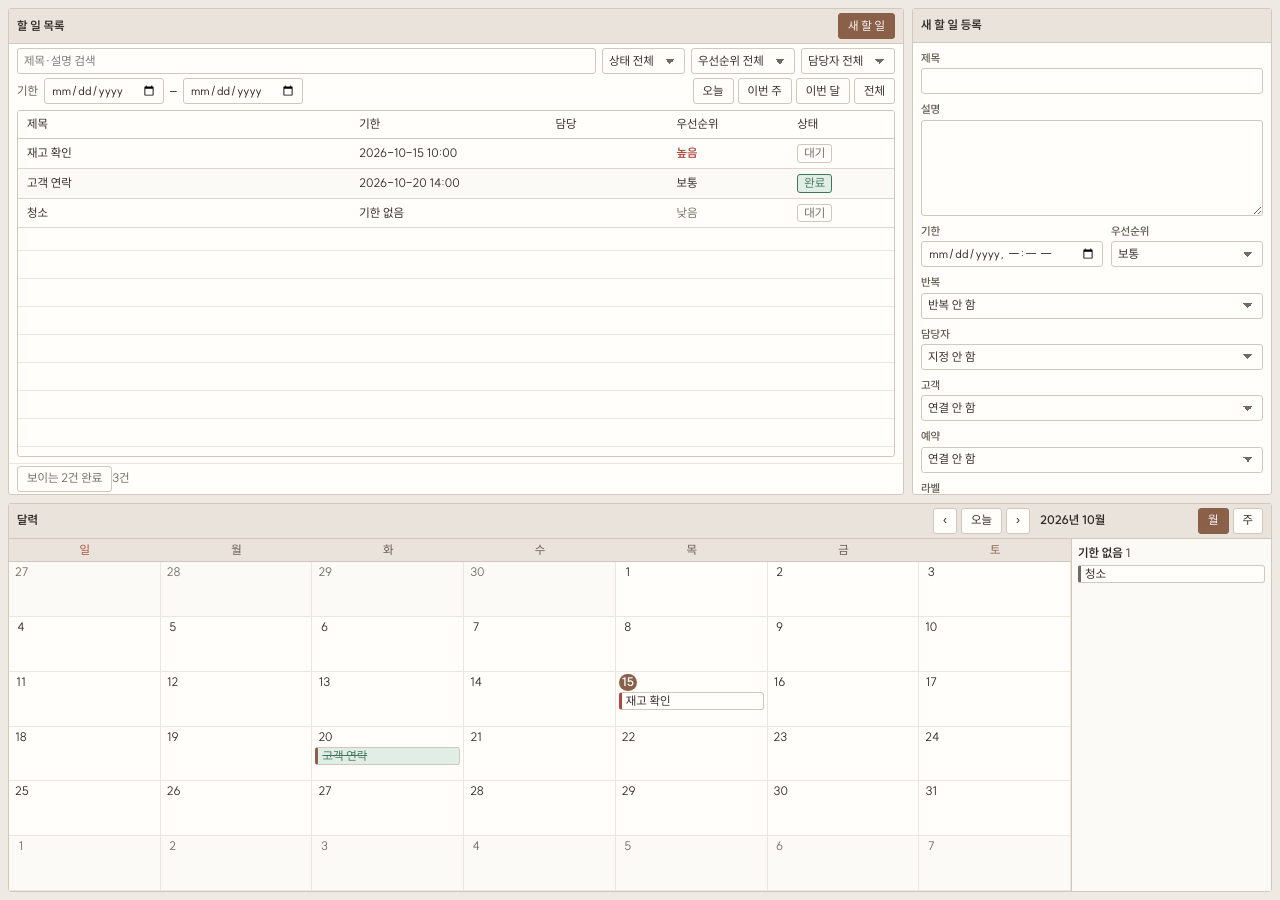
it: TaskPage 목록과 필터 › 목록 행 선택 시 우측 상세에 내용이 표시된다
Expected: the text "재고 확인" is shown, [18, 139, 350, 169]
Click the cell "고객 연락". click: (184, 184)
box: [18, 169, 350, 199]
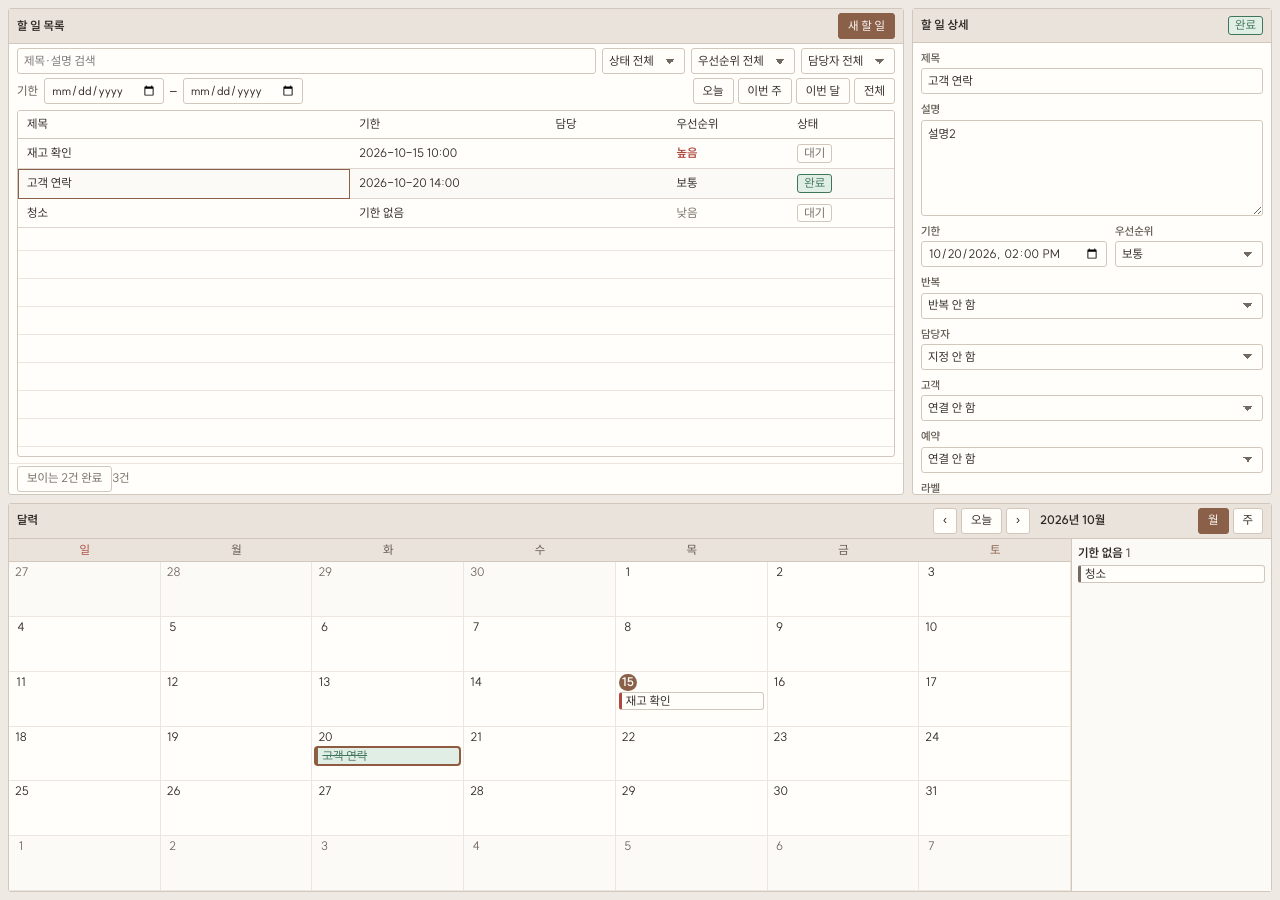
Now the field labelled "제목" holds "고객 연락", box [921, 68, 1263, 94]
Now the text box labelled "설명" holds "설명2", box [921, 120, 1263, 216]
Now the field labelled "기한" holds "2026-10-20T14:00", box [921, 241, 1107, 267]
